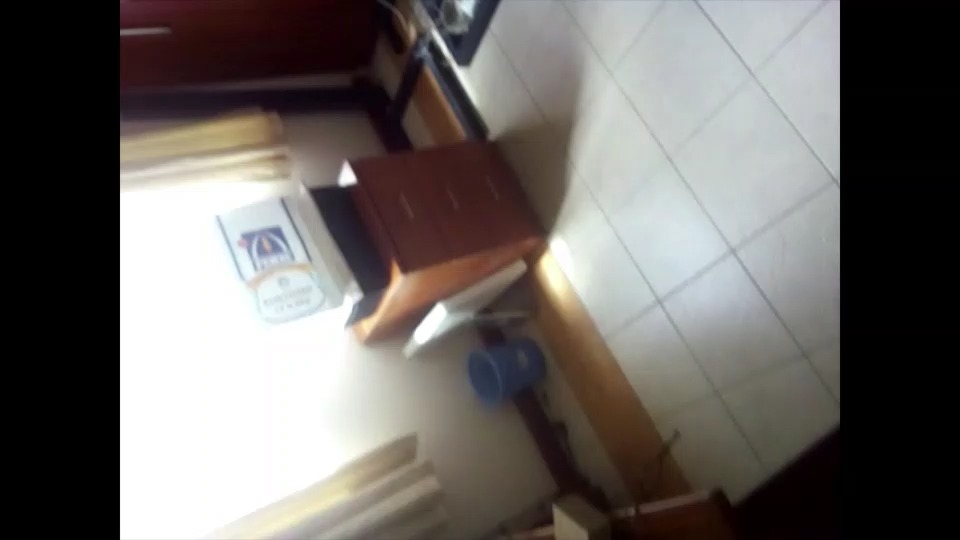wheat_flour_blue_label: (208, 184, 353, 349)
